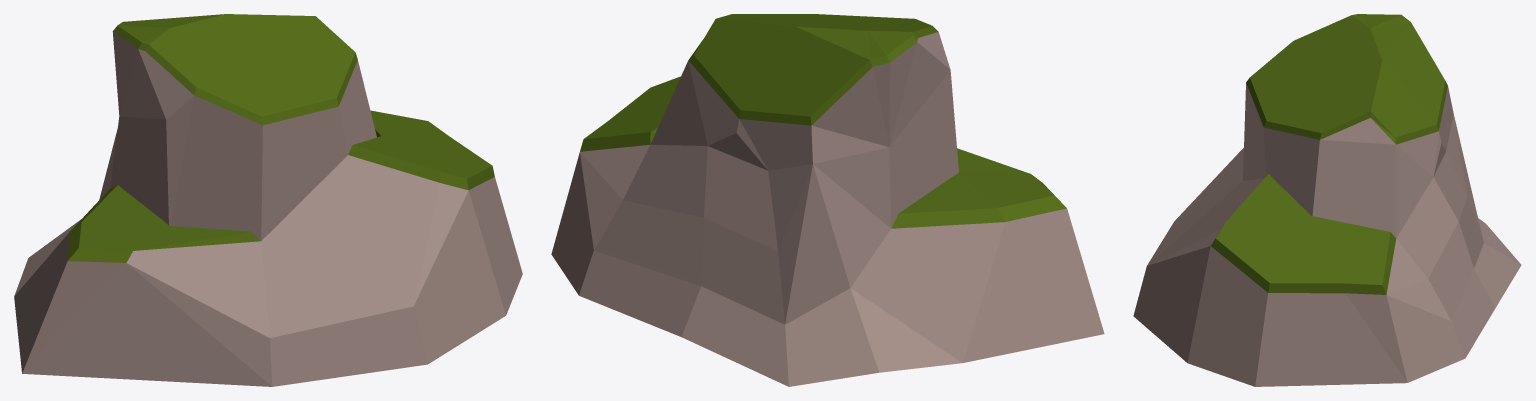
The model's file is Rock_9.fbx.
The picture shows the model from 3 angles, left to right: view 1: azimuth 30°, elevation 25°; view 2: azimuth 150°, elevation 25°; view 3: azimuth 270°, elevation 25°; orthographic projection. The views are drawn at different scales.
Parts seen in each view (by area): view 1: Rock_9; view 2: Rock_9; view 3: Rock_9.
Boxes of the visible parts, <box> form: Rock_9: <box>14,14,522,386</box>; Rock_9: <box>551,14,1104,386</box>; Rock_9: <box>1133,14,1521,386</box>.
Size of the model in its own units: 8.26 by 4.57 by 6.67.
